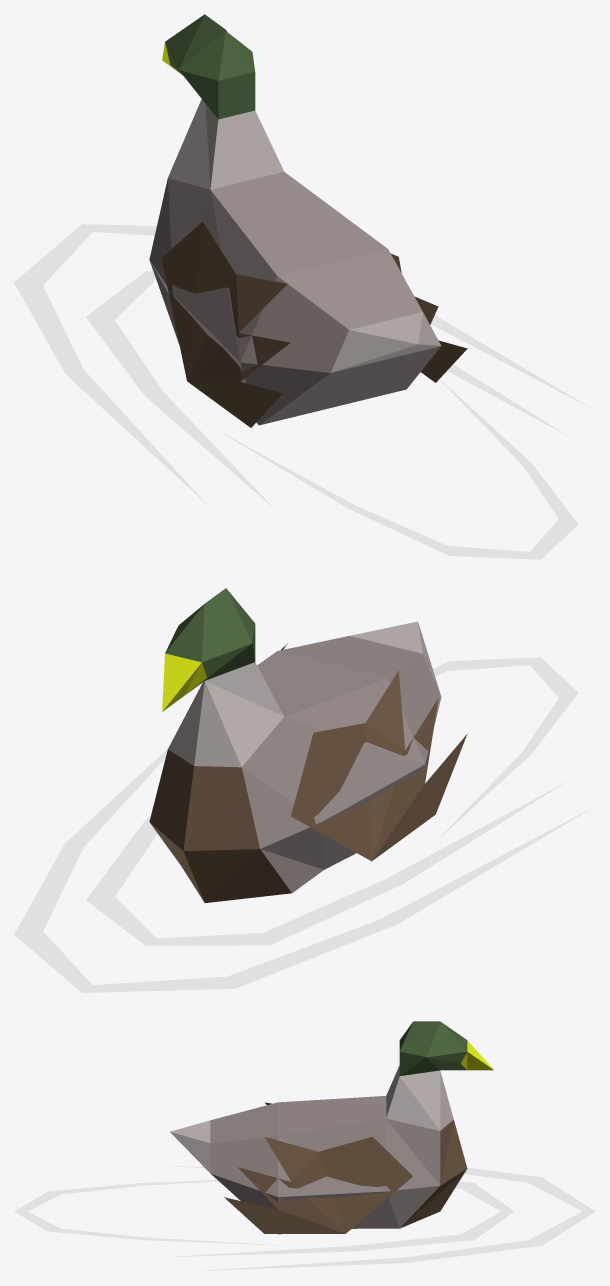
Rendered from npc_world_duck_2_0.obj.
3 views of the same model, one above another, from view 1: azimuth 30°, elevation 25°; view 2: azimuth 150°, elevation 25°; view 3: azimuth 270°, elevation 25° (orthographic). The views are drawn at different scales.
Bounding box in the file's own units: 0.3281 × 0.2422 × 0.6719.
